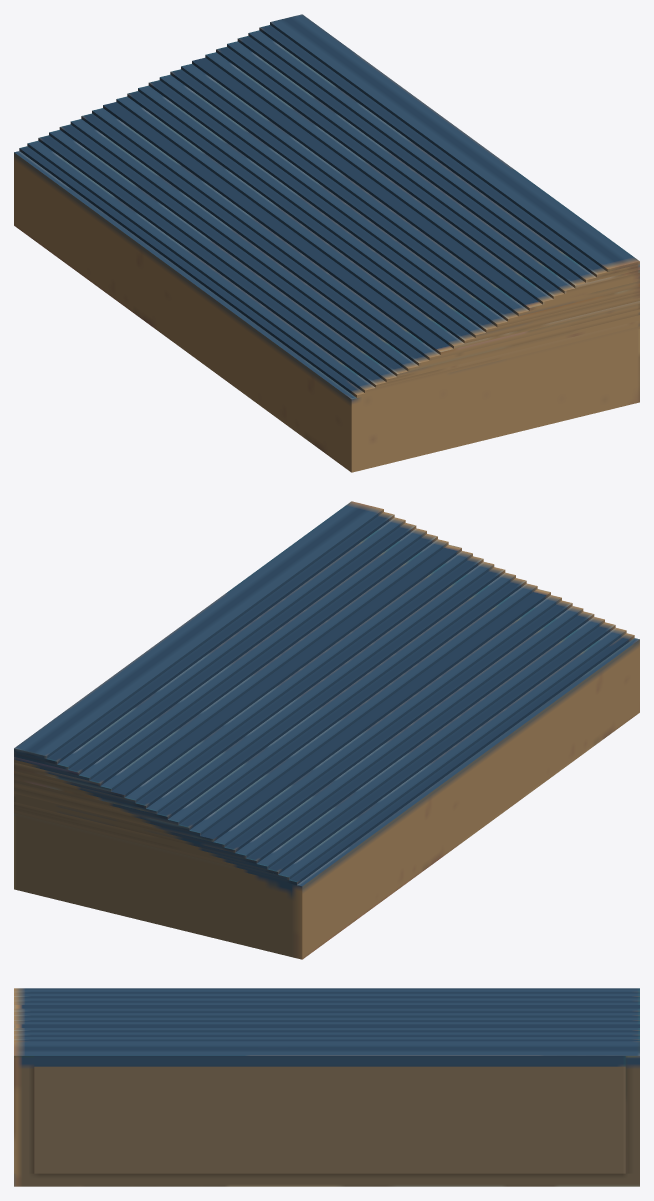
File: Roof_A_00.fbx
3 views of the same model, one above another, from view 1: azimuth 30°, elevation 25°; view 2: azimuth 150°, elevation 25°; view 3: azimuth 270°, elevation 25° (orthographic). The views are drawn at different scales.
Visible parts, largest first — view 1: Roof_A_00; view 2: Roof_A_00; view 3: Roof_A_00.
Boxes of the visible parts, box(x1,y1,x2,y2) form: Roof_A_00: box(14, 14, 639, 472); Roof_A_00: box(14, 501, 639, 959); Roof_A_00: box(14, 988, 639, 1186).
Bounding box in the file's own units: 535 × 1085 × 250.
Materials: 1 (1 with a texture image).
